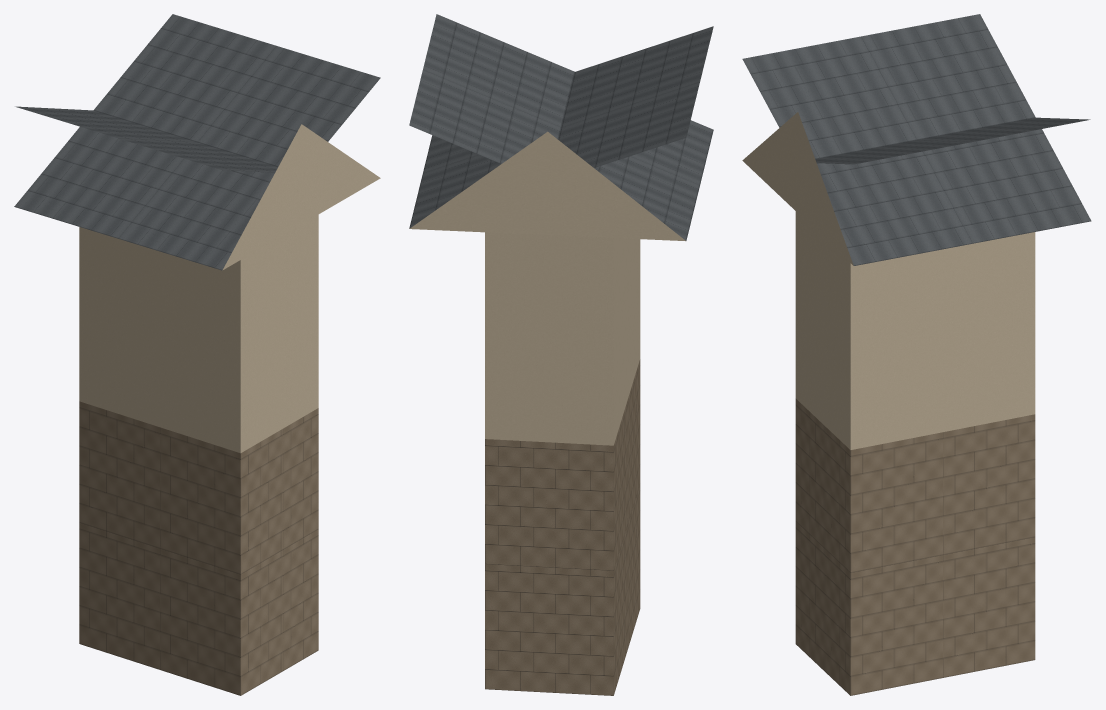
File: bld_c-2_2_527.gltf
The picture shows the model from 3 angles, left to right: view 1: azimuth 30°, elevation 25°; view 2: azimuth 150°, elevation 25°; view 3: azimuth 270°, elevation 25°; orthographic projection. The views are drawn at different scales.
Parts seen in each view (by area): view 1: bld_c-2_2_527; view 2: bld_c-2_2_527; view 3: bld_c-2_2_527.
Part boxes in pixels (left/top/right/bottom): bld_c-2_2_527: left=14, top=14, right=380, bottom=695; bld_c-2_2_527: left=409, top=14, right=713, bottom=695; bld_c-2_2_527: left=742, top=14, right=1091, bottom=695.
Bounding box in the file's own units: 6.51 × 11.35 × 6.38.
Materials: 4 (4 with a texture image).
